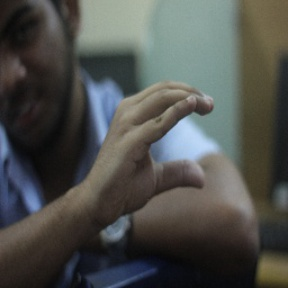C: (112, 79, 220, 207)
